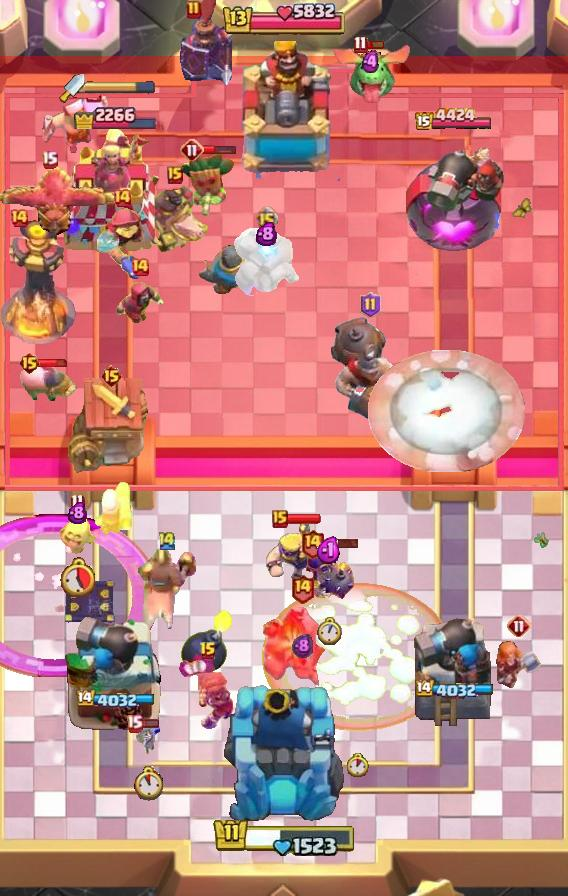arrows: (265, 521, 320, 582)
baby-dragon: (180, 607, 234, 675)
bar: (55, 126, 173, 256)
bat-evolution: (56, 517, 98, 555)
bowler: (114, 280, 166, 328)
cannoneer-tower: (262, 606, 342, 692)
clock: (212, 814, 356, 856), (221, 0, 347, 40)
electro-dragon: (0, 218, 78, 344)
electro-spirit: (316, 535, 342, 564), (291, 633, 312, 659), (256, 222, 277, 247), (68, 501, 88, 524), (361, 50, 378, 74)
electro-wizard: (329, 43, 411, 105)
elixir: (60, 557, 96, 597), (131, 767, 164, 801), (318, 617, 343, 646), (347, 753, 369, 777)
elixir-golem-big: (178, 0, 232, 90)
emote: (324, 537, 361, 549), (286, 513, 322, 525), (202, 145, 238, 156), (38, 358, 70, 368), (365, 38, 385, 49), (141, 719, 160, 730)
executioner: (17, 359, 77, 405)
fireball: (97, 206, 147, 282)
firecracker: (198, 244, 258, 295)
freeze: (140, 180, 210, 254), (138, 547, 196, 629)
goblin: (135, 719, 161, 757)
goblin-ball: (302, 548, 356, 604)
goblin-barrel: (178, 151, 238, 219)
hog-rider: (494, 641, 544, 689)
ice-spirit-evolution-symbol: (62, 576, 116, 626)
king-tower: (221, 682, 347, 826), (228, 41, 340, 181)
king-tower-bar: (85, 81, 155, 95)
knight-evolution: (0, 515, 160, 678)
mighty-miner: (39, 91, 109, 153)
mother-witch: (0, 164, 118, 238)
phoenix-big: (261, 581, 455, 732)
selected: (71, 99, 157, 128), (414, 107, 494, 133), (413, 680, 493, 700), (74, 690, 154, 710)
sparky: (68, 377, 154, 475)
tesla-evolution: (179, 656, 237, 730)
text: (300, 529, 325, 560), (289, 573, 314, 603), (180, 138, 204, 162), (507, 614, 531, 638), (19, 351, 42, 375), (100, 364, 123, 388), (359, 292, 380, 318), (255, 207, 278, 230), (157, 530, 177, 551), (112, 188, 132, 208), (9, 208, 29, 228), (130, 257, 150, 277), (199, 641, 217, 661), (41, 150, 59, 169), (125, 715, 142, 734), (186, 0, 202, 20), (167, 166, 183, 184), (272, 510, 288, 528), (353, 35, 367, 53), (71, 493, 85, 511)
tombstone: (92, 479, 134, 537)
tower-bar: (402, 136, 504, 256), (63, 615, 165, 731), (410, 611, 496, 731)
valkyrie-evolution: (231, 228, 301, 296)
wall-breaker: (367, 350, 525, 472)
wizard: (330, 315, 410, 425)
